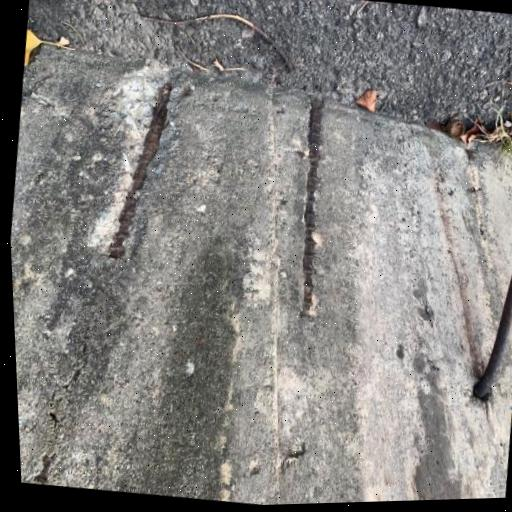exposed_rebar: (110, 84, 171, 259), (302, 103, 325, 317)
